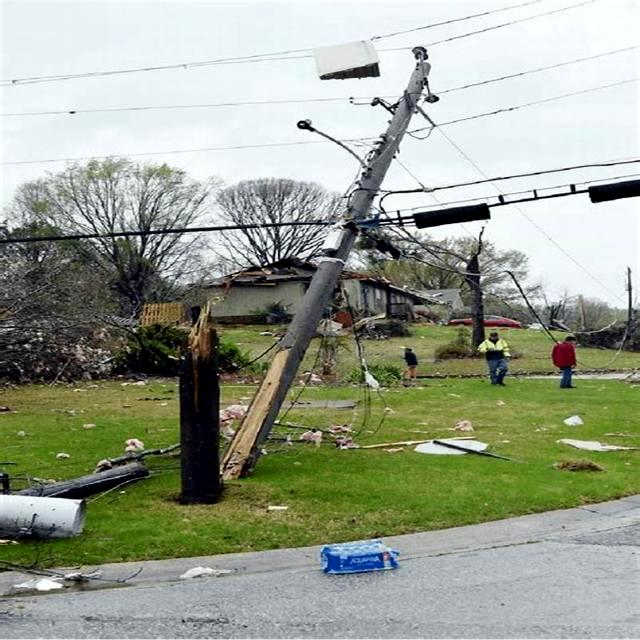Broken Pole: (226, 46, 438, 479)
